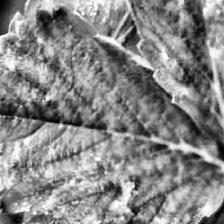Powdery Mildew Leaf: (0, 4, 224, 224), (118, 0, 224, 160), (189, 0, 224, 224)
